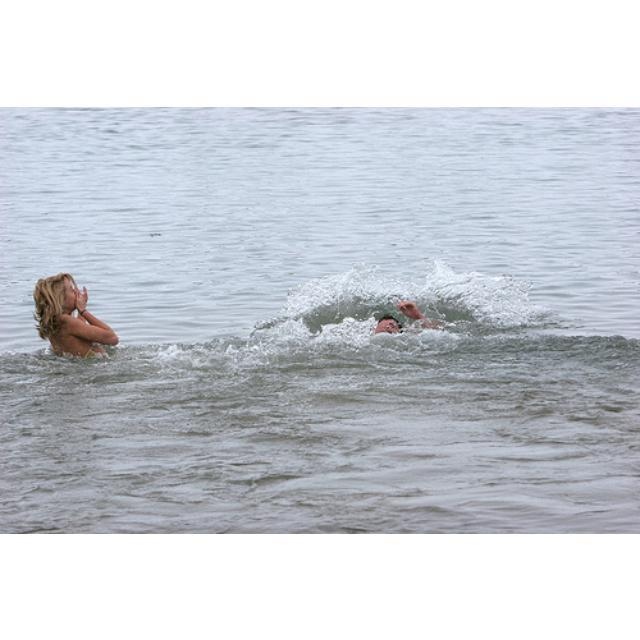human: (33, 273, 120, 360), (376, 307, 428, 336)
